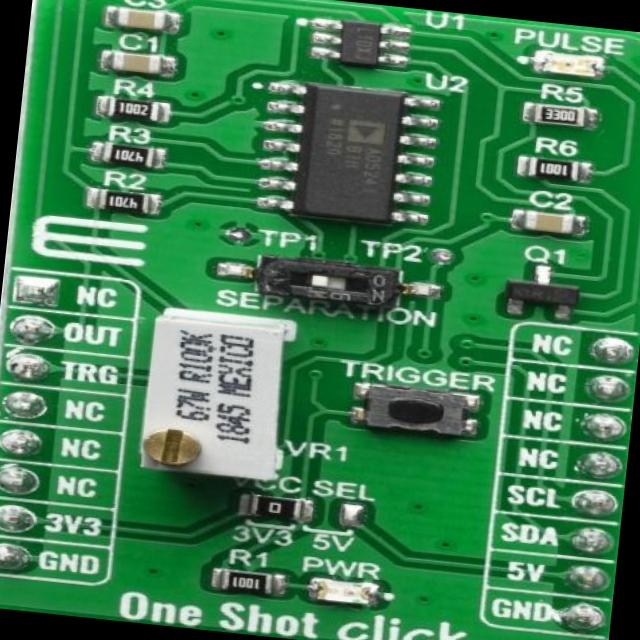IC: (262, 74, 419, 223), (326, 18, 398, 64)
LED: (536, 52, 624, 92), (302, 568, 379, 610)
capacitor: (516, 204, 584, 242), (104, 45, 160, 86), (114, 3, 175, 38)
potentiometer: (134, 305, 315, 479)
resistor: (514, 152, 592, 185), (93, 94, 169, 127), (94, 180, 158, 218), (92, 137, 164, 170), (530, 102, 596, 134), (258, 489, 311, 522), (228, 570, 278, 596)
transistor: (507, 269, 585, 318)
